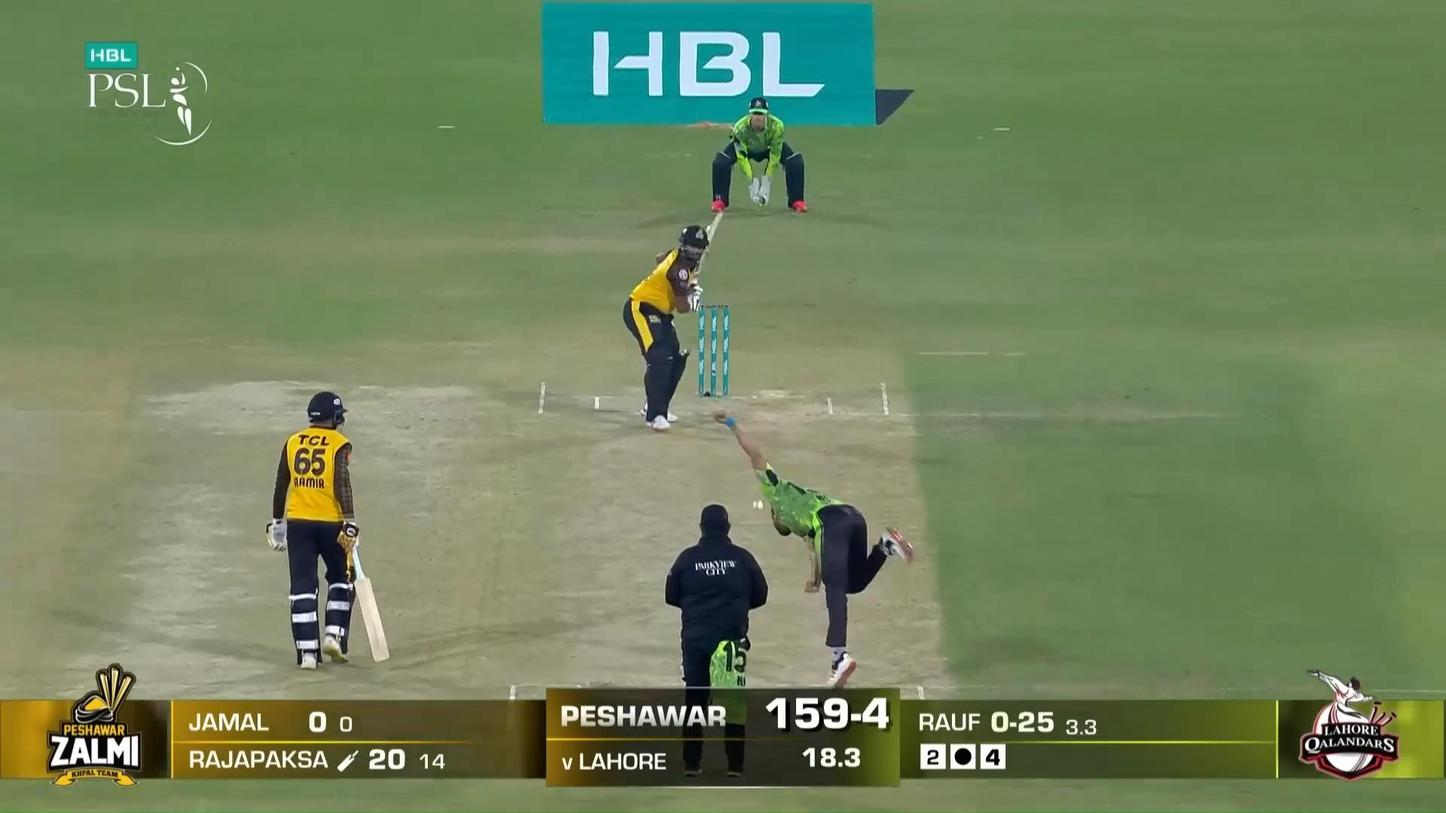batsman: (622, 211, 723, 431)
